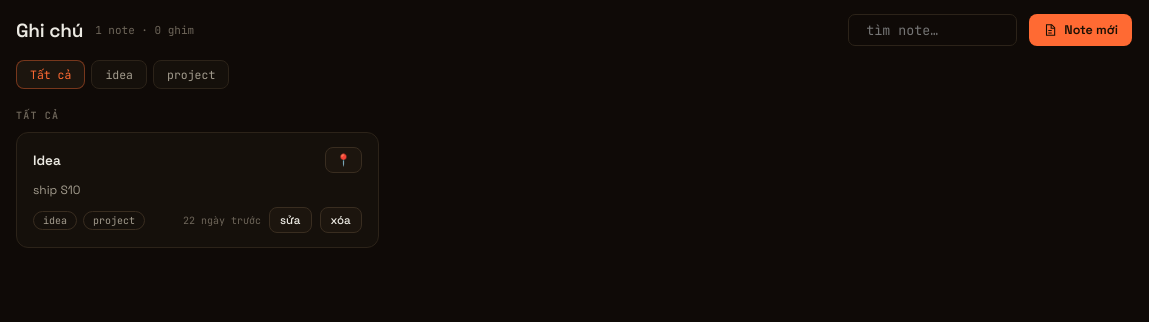
it: S10 Notes — WRITE (create/edit/delete) + fail-closed teeth-tests › TEETH: delete FAILS → error surfaces, no silent loss / crash
Click the button with test id "del-n1" at (341, 220), box left=320, top=207, right=362, bottom=233
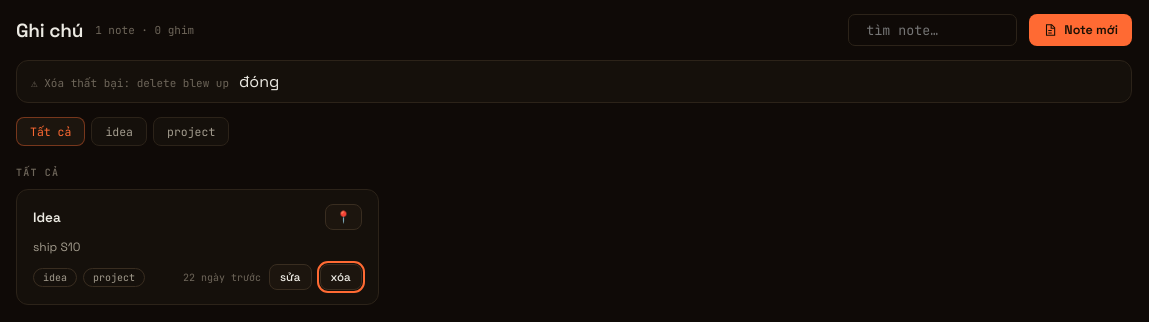
Expected: the text "Idea" is shown, left=33, top=208, right=61, bottom=226
Now the element with test id "notes-write-error" shows "Xóa thất bại", box left=44, top=76, right=229, bottom=90
